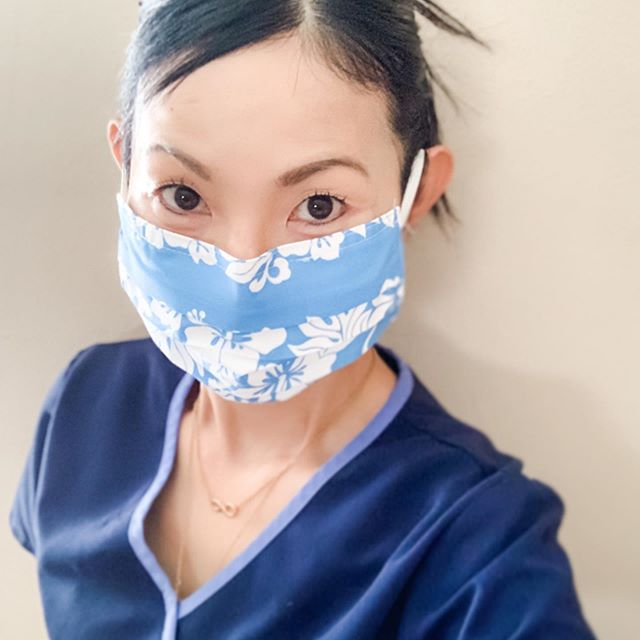homemade: (108, 203, 405, 406)
